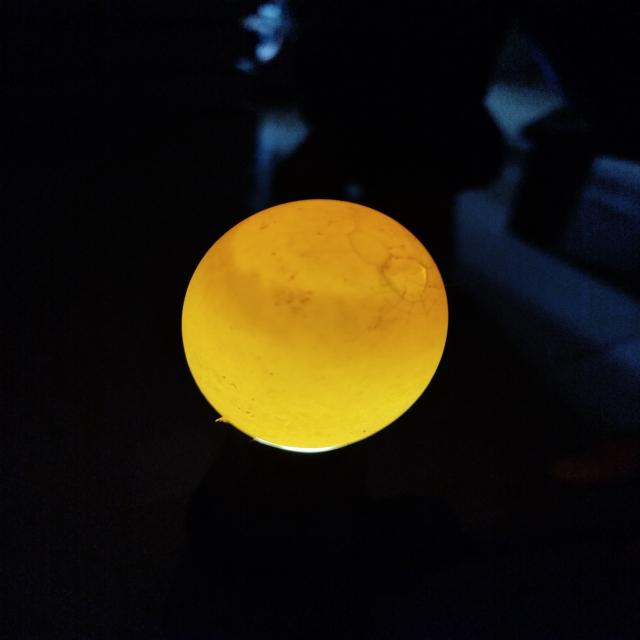Camara de Ar: (234, 199, 437, 293)
Rachadura: (349, 231, 436, 312)
